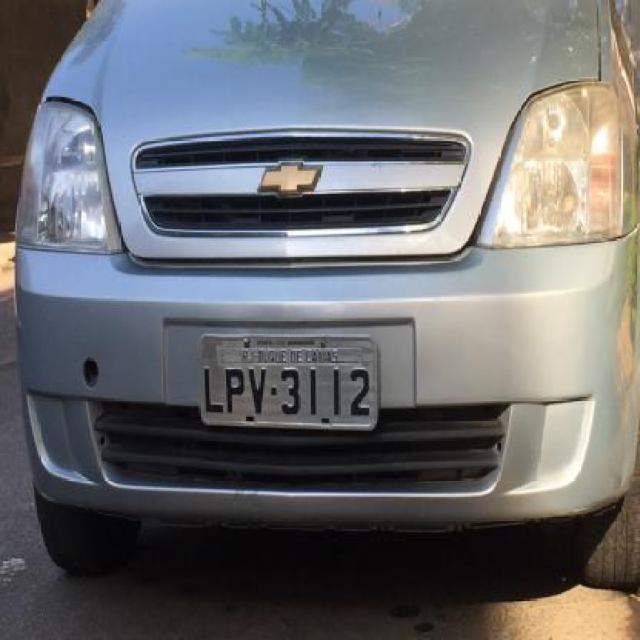old_plate: (187, 328, 387, 438)
